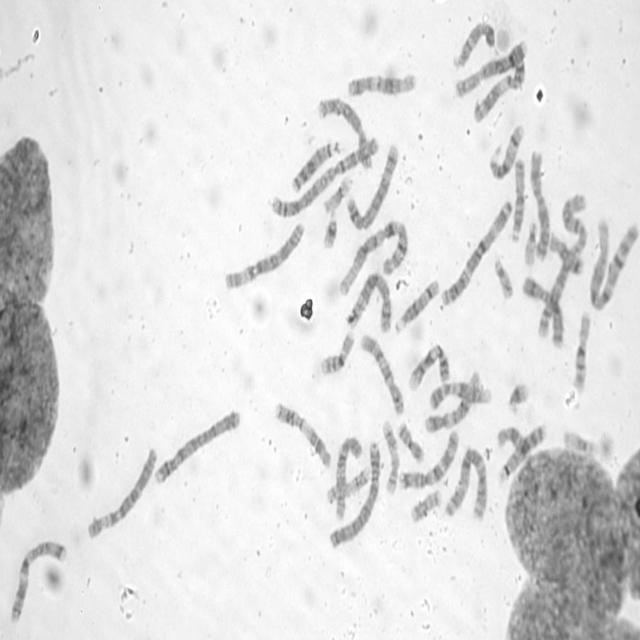A1: (336, 216, 411, 298), (587, 215, 640, 312)
A2: (268, 132, 381, 221), (534, 187, 590, 342)
A3: (438, 194, 515, 308), (443, 441, 489, 523)
B4: (151, 403, 243, 488), (327, 437, 382, 550)
B5: (345, 138, 400, 232), (344, 268, 393, 334)
C10: (358, 328, 407, 416), (331, 431, 363, 521)
C11: (272, 397, 334, 470), (470, 58, 527, 125)
C12: (423, 367, 483, 435), (345, 67, 419, 99)
C6: (85, 441, 159, 541), (222, 217, 306, 292)
C7: (8, 533, 68, 625), (398, 425, 461, 491)
C8: (452, 35, 528, 101), (315, 92, 374, 173)
C9: (405, 338, 452, 392), (426, 377, 494, 411)
D13: (497, 420, 548, 485), (289, 134, 343, 194)
D14: (392, 274, 441, 336), (486, 119, 526, 181)
D15: (451, 16, 497, 70), (508, 153, 527, 245)
E16: (318, 326, 356, 377), (570, 306, 592, 394)
E17: (323, 461, 372, 506), (379, 415, 400, 497)
E18: (546, 228, 586, 276), (494, 421, 530, 460)
F19: (321, 170, 355, 215), (561, 423, 599, 458)
F20: (394, 416, 426, 464), (408, 484, 444, 524)
G21: (505, 376, 531, 412), (320, 210, 339, 250)
G22: (491, 251, 515, 301), (522, 216, 539, 267)
X: (520, 271, 566, 349), (528, 144, 550, 262)
